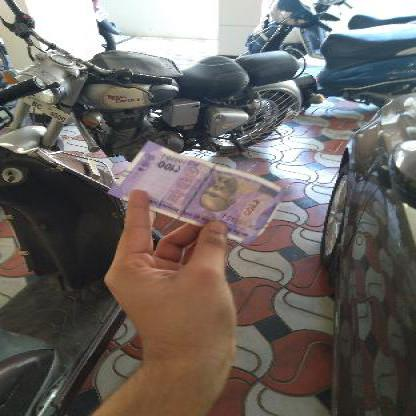New100Front: (108, 139, 281, 241)
